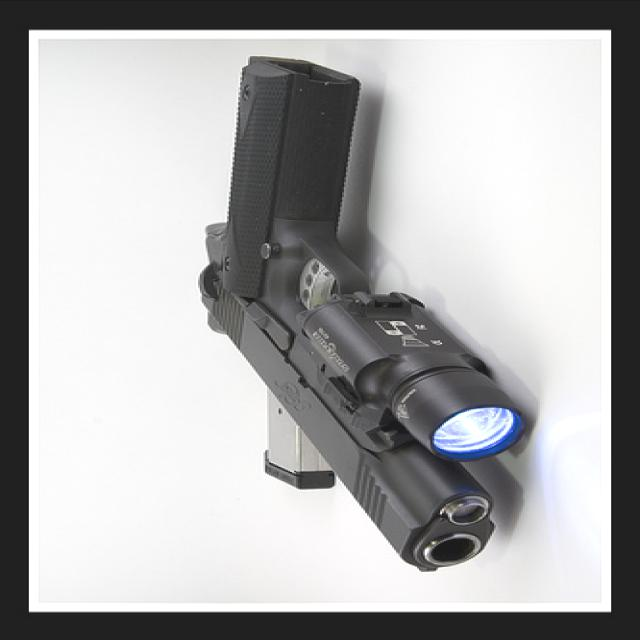handgun: (194, 54, 530, 576)
